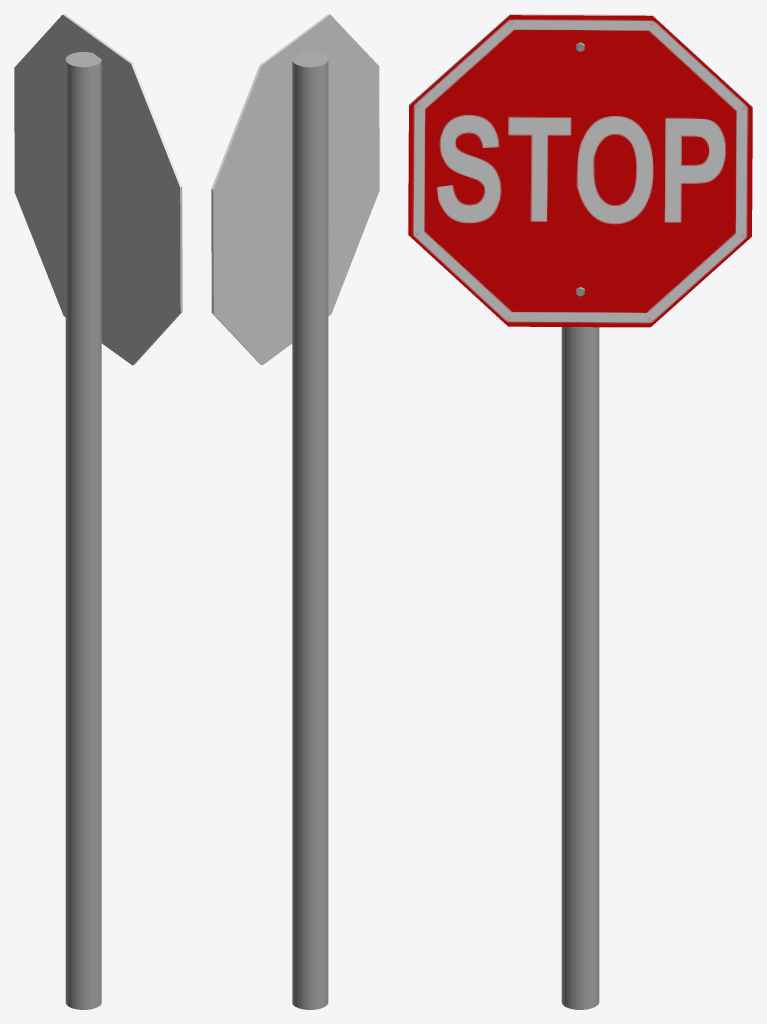
The model's file is STOP(1).fbx.
3 renders of one model, left to right at view 1: azimuth 30°, elevation 25°; view 2: azimuth 150°, elevation 25°; view 3: azimuth 270°, elevation 25°, orthographic. The views are drawn at different scales.
Visible parts, largest first — view 1: Cylinder, Cylinder.001; view 2: Cylinder, Cylinder.001; view 3: Cylinder.001, Cylinder.
Part boxes in pixels (<box>): Cylinder: <box>65,52,101,1009</box>; Cylinder.001: <box>14,14,182,365</box>; Cylinder: <box>292,52,328,1009</box>; Cylinder.001: <box>211,14,379,365</box>; Cylinder.001: <box>408,14,752,327</box>; Cylinder: <box>561,327,599,1009</box>.
Size of the model in its own units: 22.02 by 590 by 185.
Materials: 3 (1 with a texture image).
